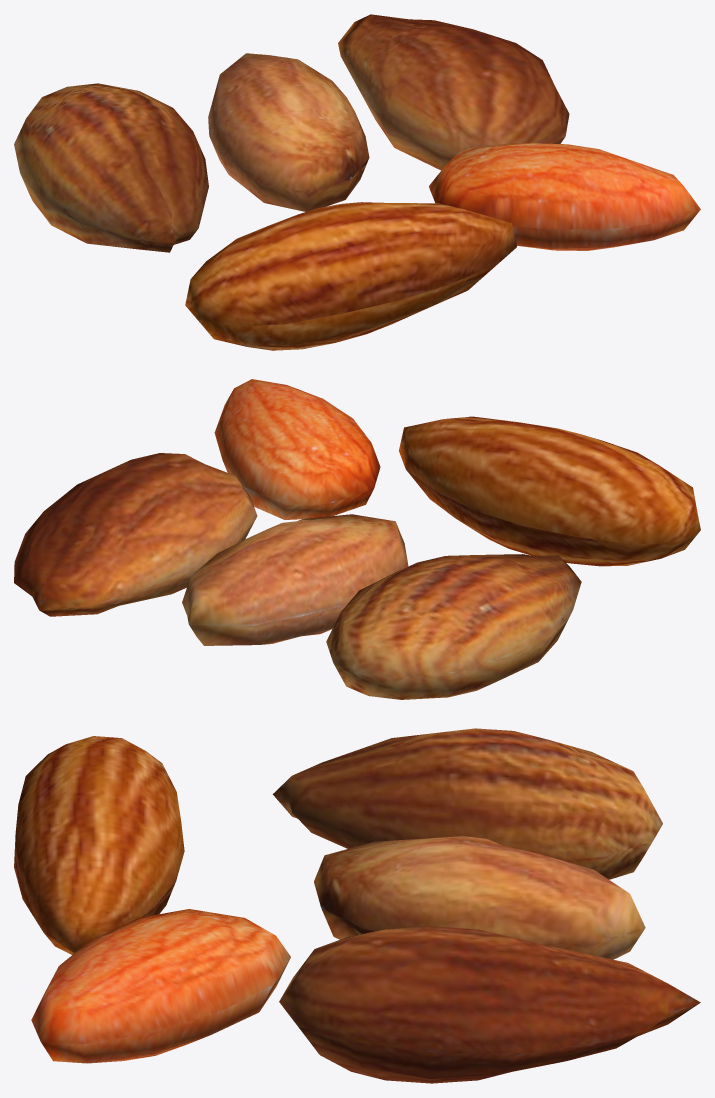
File: taoren.FBX
The picture shows the model from 3 angles, top to bottom: view 1: azimuth 30°, elevation 25°; view 2: azimuth 150°, elevation 25°; view 3: azimuth 270°, elevation 25°; orthographic projection. The views are drawn at different scales.
Visible parts, largest first — view 1: Sphere004, Sphere001, Sphere002, Sphere005, Sphere003; view 2: Sphere004, Sphere001, Sphere002, Sphere003, Sphere005; view 3: Sphere002, Sphere001, Sphere004, Sphere005, Sphere003.
Part boxes in pixels (box(x1,y1,x2,y2)): Sphere004: box(185, 202, 516, 350); Sphere001: box(14, 83, 208, 252); Sphere002: box(338, 14, 569, 170); Sphere005: box(429, 143, 700, 250); Sphere003: box(208, 53, 369, 211); Sphere004: box(399, 416, 700, 566); Sphere001: box(326, 554, 581, 699); Sphere002: box(14, 453, 257, 616); Sphere003: box(182, 514, 408, 645); Sphere005: box(214, 379, 380, 519); Sphere002: box(279, 926, 700, 1083); Sphere001: box(272, 728, 662, 879); Sphere004: box(14, 736, 184, 954); Sphere005: box(31, 909, 290, 1063); Sphere003: box(314, 836, 645, 959).
Size of the model in its own units: 47.71 by 10.88 by 47.13.
1 material, 1 textured.
